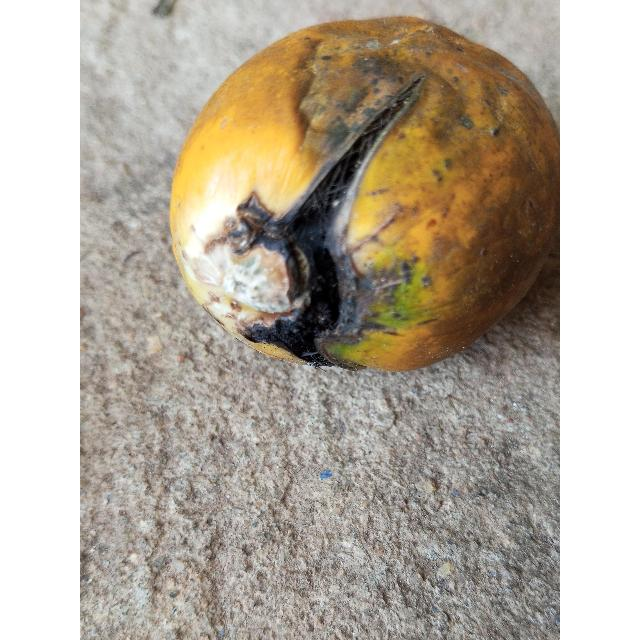damaged: (168, 15, 560, 375)
